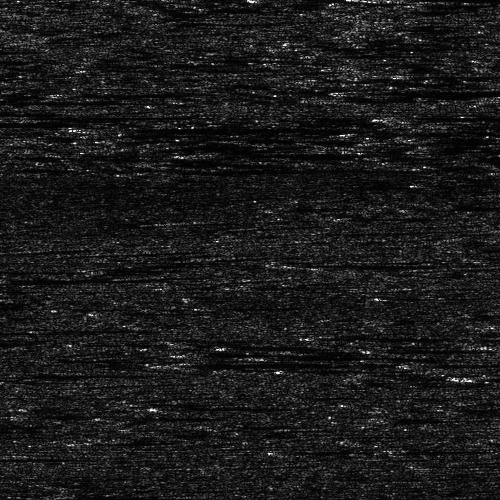rock: (356, 113, 461, 120), (182, 150, 265, 157), (253, 261, 336, 266), (0, 275, 17, 282), (491, 149, 500, 154)
shadow: (224, 150, 393, 157), (295, 261, 466, 266), (409, 113, 500, 120), (0, 275, 89, 282)
